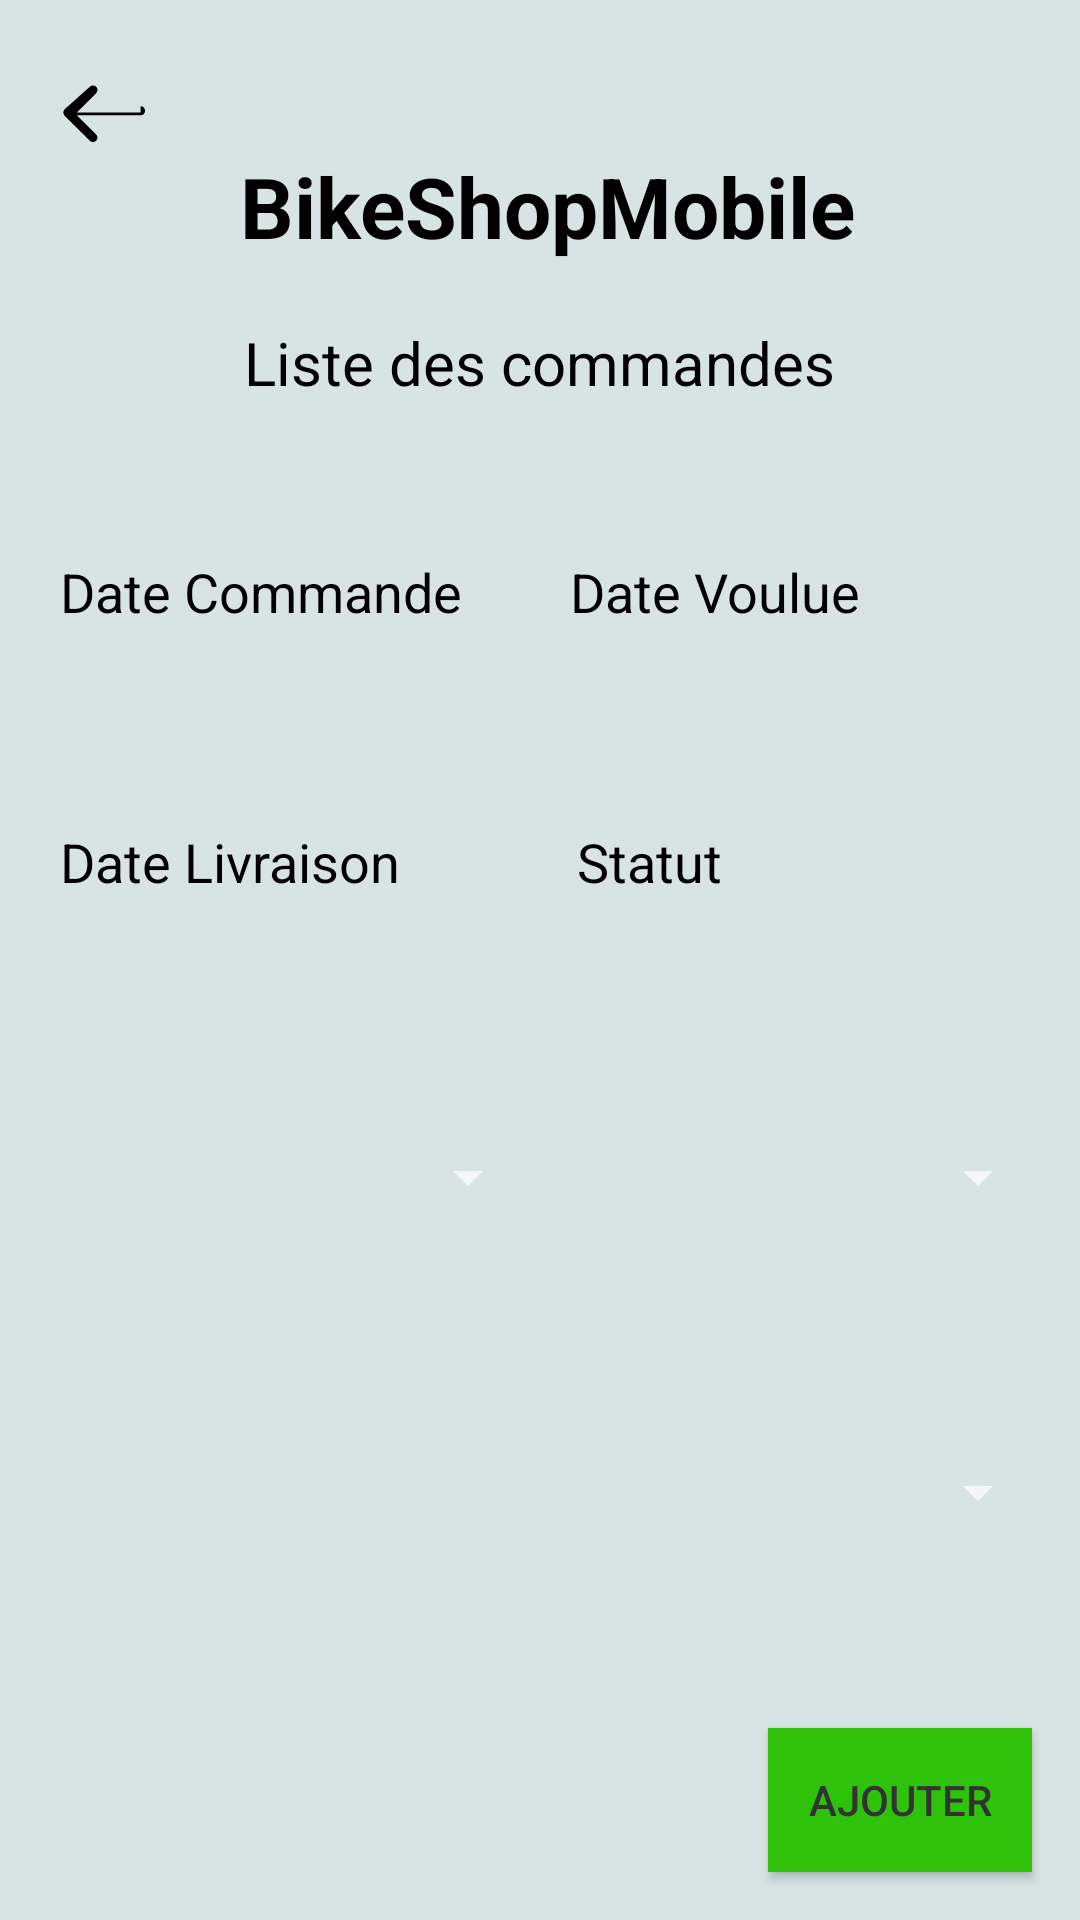

Locate icon controls on the screen. Image size 1080*1920, boxes as (x1, y1, x2, y2).
back: (63, 85, 145, 143)
